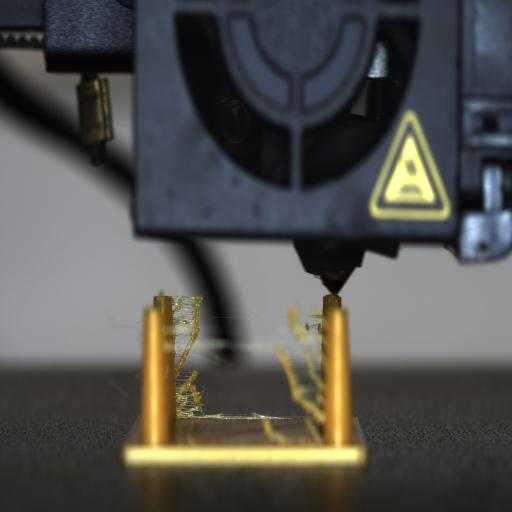stringing: (129, 292, 330, 442)
